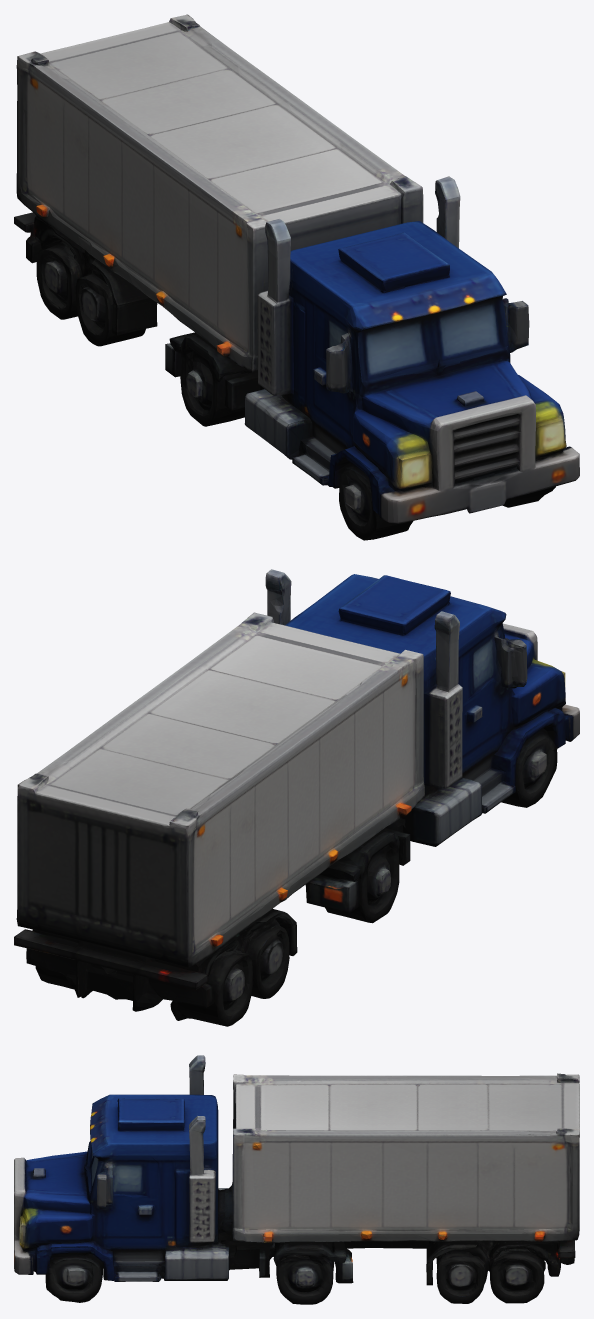
The model's file is semi.glb.
The picture shows the model from 3 angles, top to bottom: view 1: azimuth 30°, elevation 25°; view 2: azimuth 150°, elevation 25°; view 3: azimuth 270°, elevation 25°; orthographic projection. The views are drawn at different scales.
Parts seen in each view (by area): view 1: geometry_0.001; view 2: geometry_0.001; view 3: geometry_0.001.
Part boxes in pixels (x1,y1,x2,y2): geometry_0.001: (14, 14, 579, 540); geometry_0.001: (14, 569, 579, 1026); geometry_0.001: (14, 1055, 579, 1304).
Size of the model in its own units: 0.2971 by 0.3602 by 1.
Materials: 1 (1 with a texture image).
